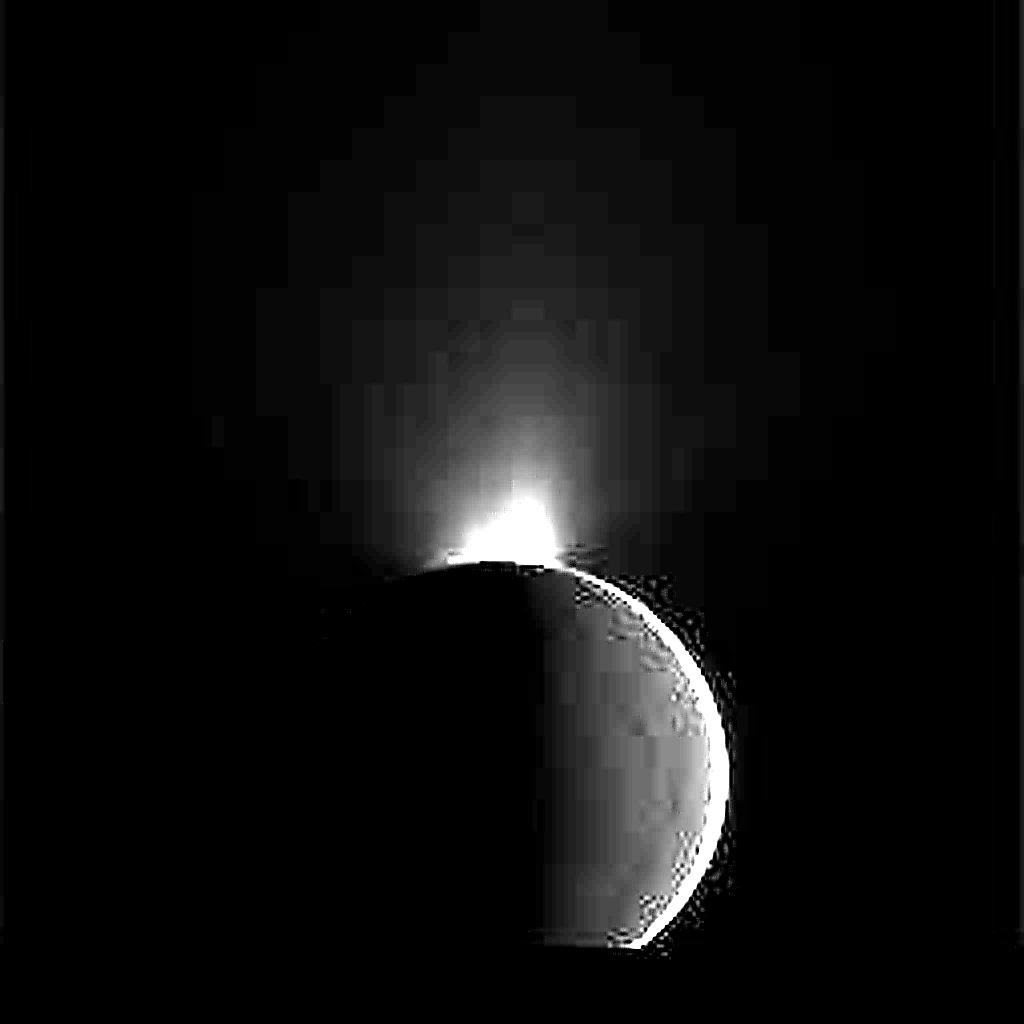plumes: (444, 495, 564, 568)
